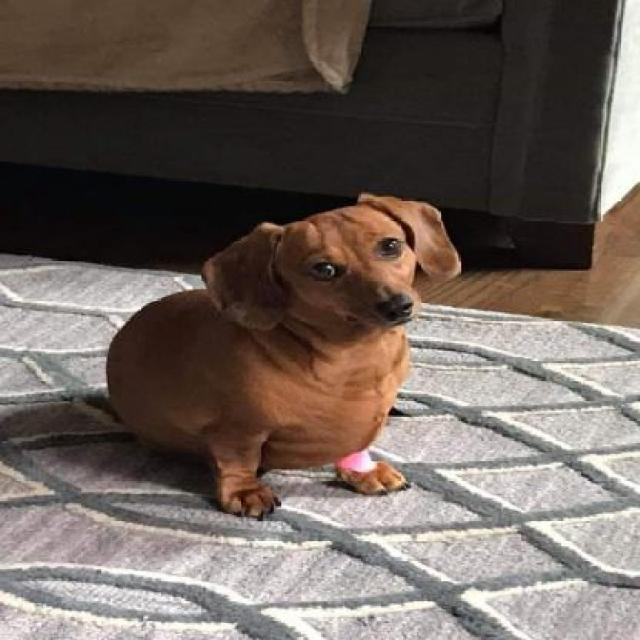Dog: (102, 189, 464, 522)
